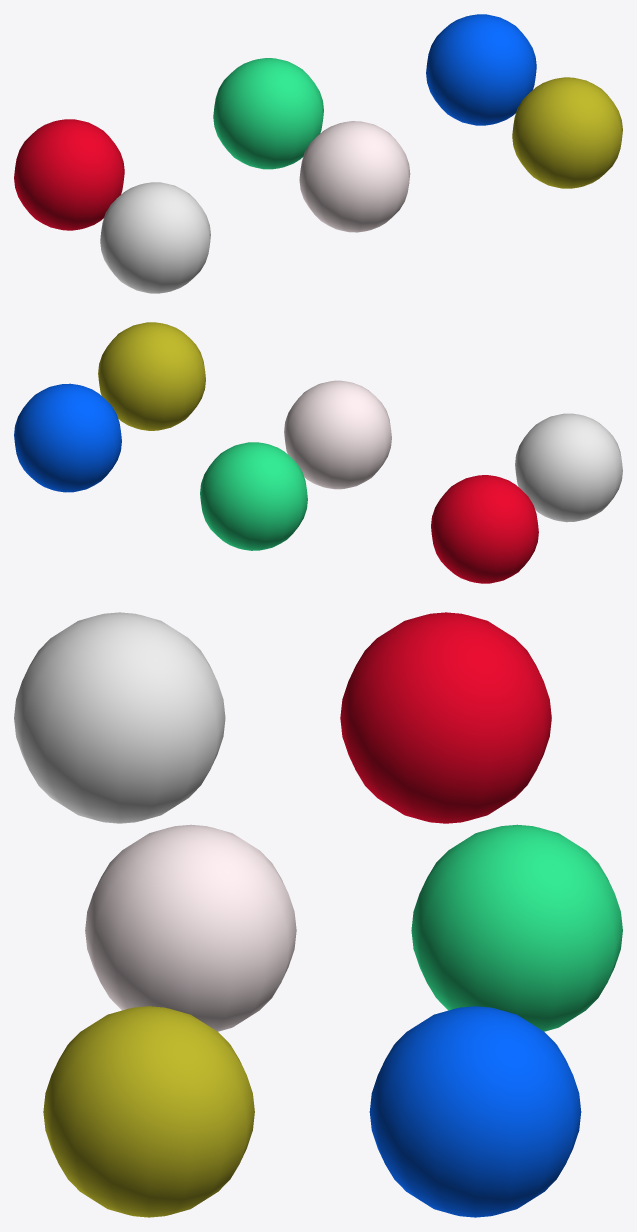
Rendered from pbr.glb.
The picture shows the model from 3 angles, top to bottom: view 1: azimuth 30°, elevation 25°; view 2: azimuth 150°, elevation 25°; view 3: azimuth 270°, elevation 25°; orthographic projection. The views are drawn at different scales.
Parts seen in each view (by area): view 1: Sphere.004, Sphere.005, Sphere.006, Sphere.001, Sphere.003, Sphere.007; view 2: Sphere.007, Sphere.003, Sphere.001, Sphere.005, Sphere.006, Sphere.004; view 3: Sphere.003, Sphere.006, Sphere.004, Sphere.001, Sphere.007, Sphere.005.
Part boxes in pixels (box(x1,y1,x2,y2)): Sphere.004: box(100, 182, 210, 293); Sphere.005: box(299, 121, 410, 232); Sphere.006: box(512, 77, 622, 188); Sphere.001: box(426, 14, 536, 125); Sphere.003: box(14, 119, 124, 230); Sphere.007: box(213, 58, 323, 169); Sphere.007: box(200, 442, 307, 550); Sphere.003: box(431, 475, 538, 583); Sphere.001: box(14, 383, 121, 492); Sphere.005: box(284, 380, 391, 489); Sphere.006: box(98, 322, 205, 430); Sphere.004: box(515, 413, 622, 522); Sphere.003: box(340, 612, 551, 823); Sphere.006: box(43, 1006, 254, 1217); Sphere.004: box(14, 612, 225, 823); Sphere.001: box(369, 1006, 581, 1217); Sphere.007: box(411, 824, 622, 1031); Sphere.005: box(85, 824, 296, 1031).
Size of the model in its own units: 5.34 by 1.06 by 2.88.
